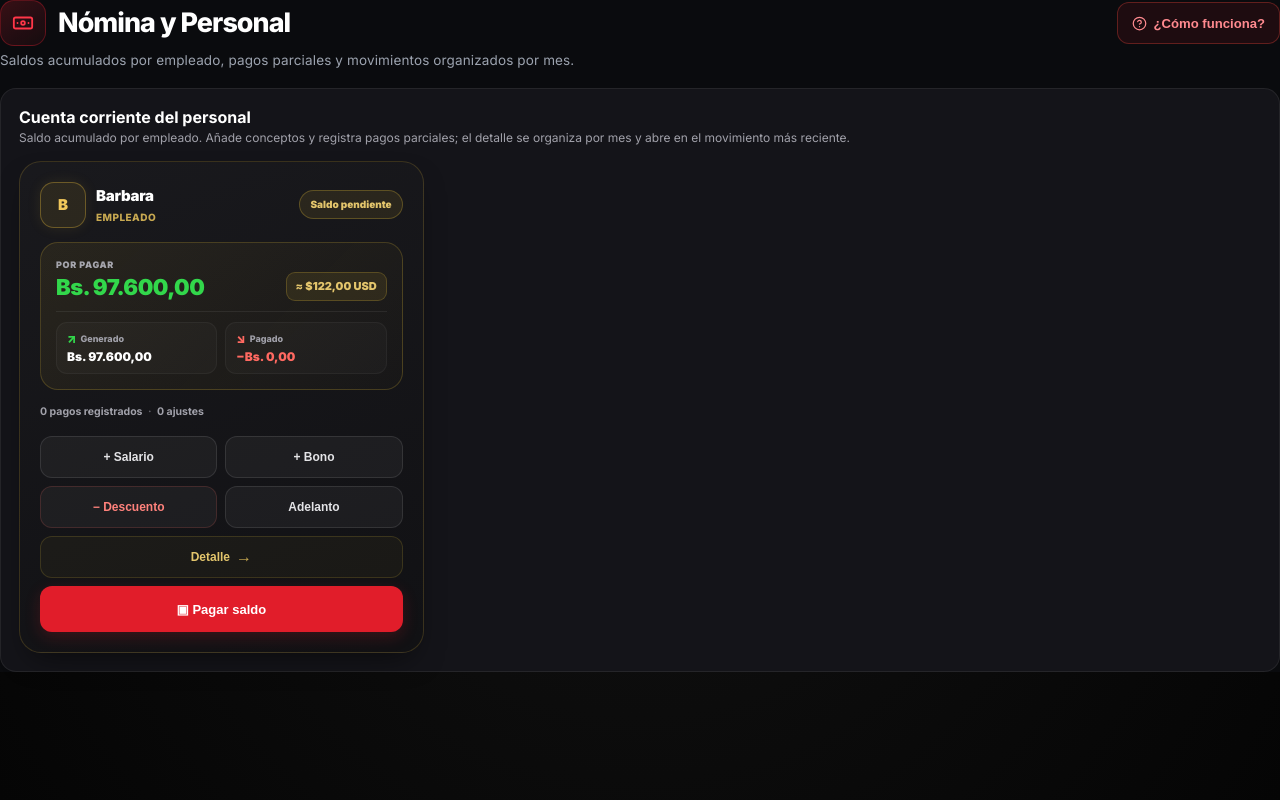
Test case: Historial de nómina › abre el registro de un pago parcial desde la tarjeta
Expected: the text "Barbara" is shown, [96,185,156,208]
Click the button "▣ Pagar saldo".
click(221, 609)  # box [40,586,403,632]
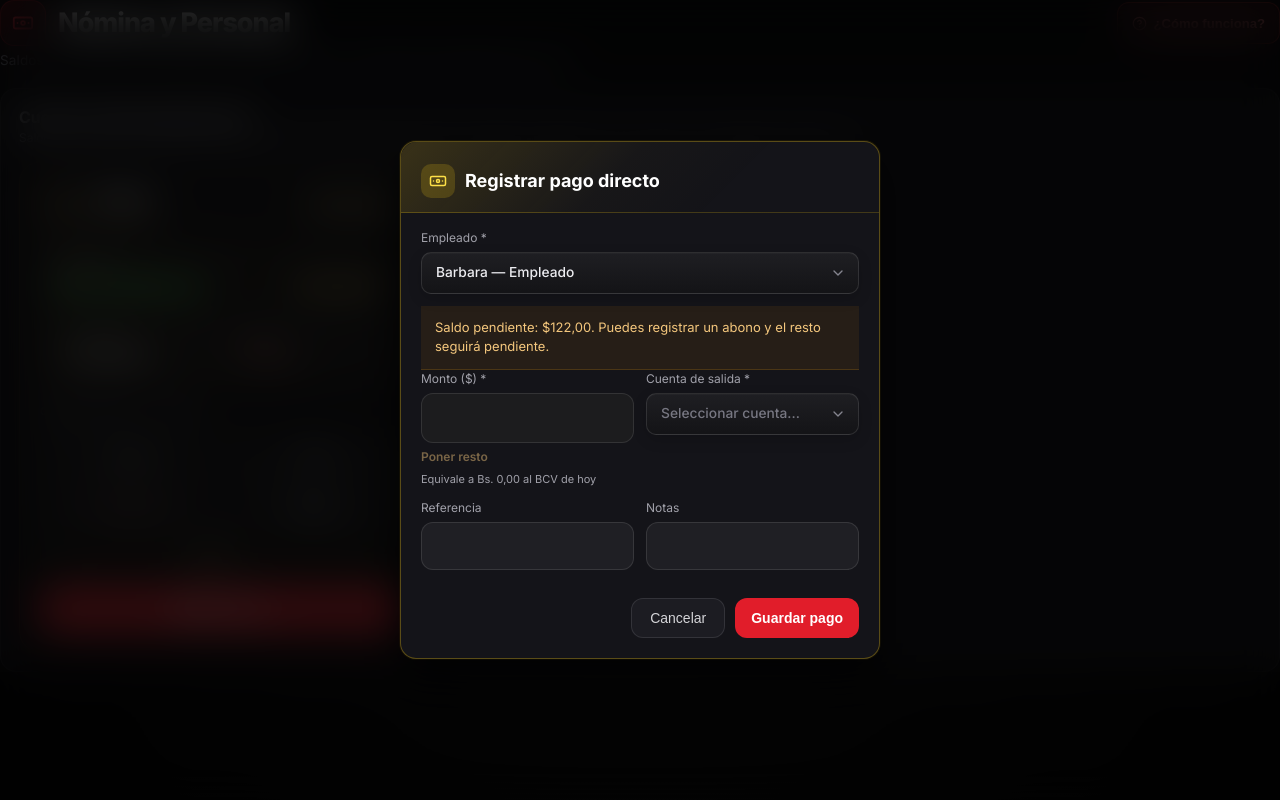
Expected: the heading "Registrar pago directo" is shown, [465,170,660,192]
Click the button "Seleccionar cuenta...".
click(752, 414)  # box [646,393,859,435]
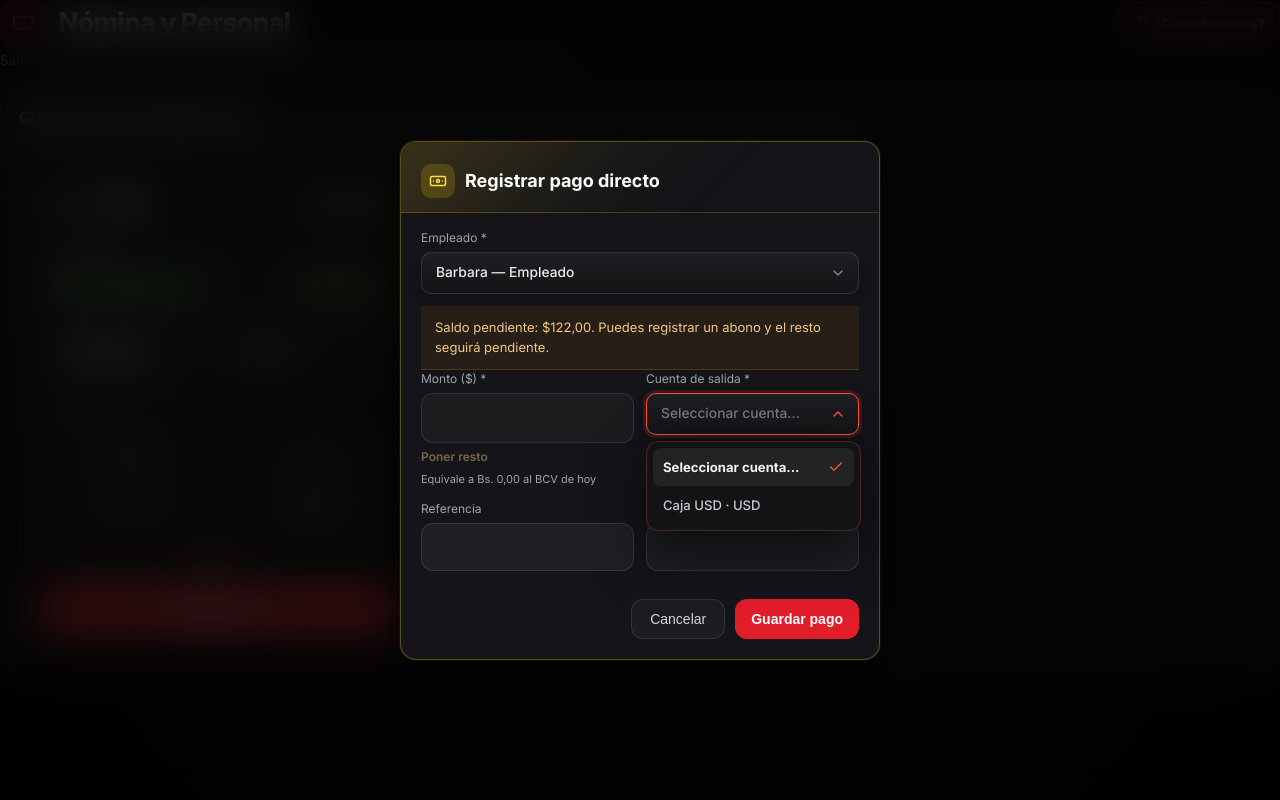
Expected: the option "Caja USD · USD" is shown, [653,486,854,524]
